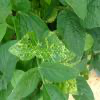Tomato leaf: (40, 62, 78, 83)
Tomato leaf mosaic virus: (8, 30, 39, 62), (41, 31, 69, 61)
